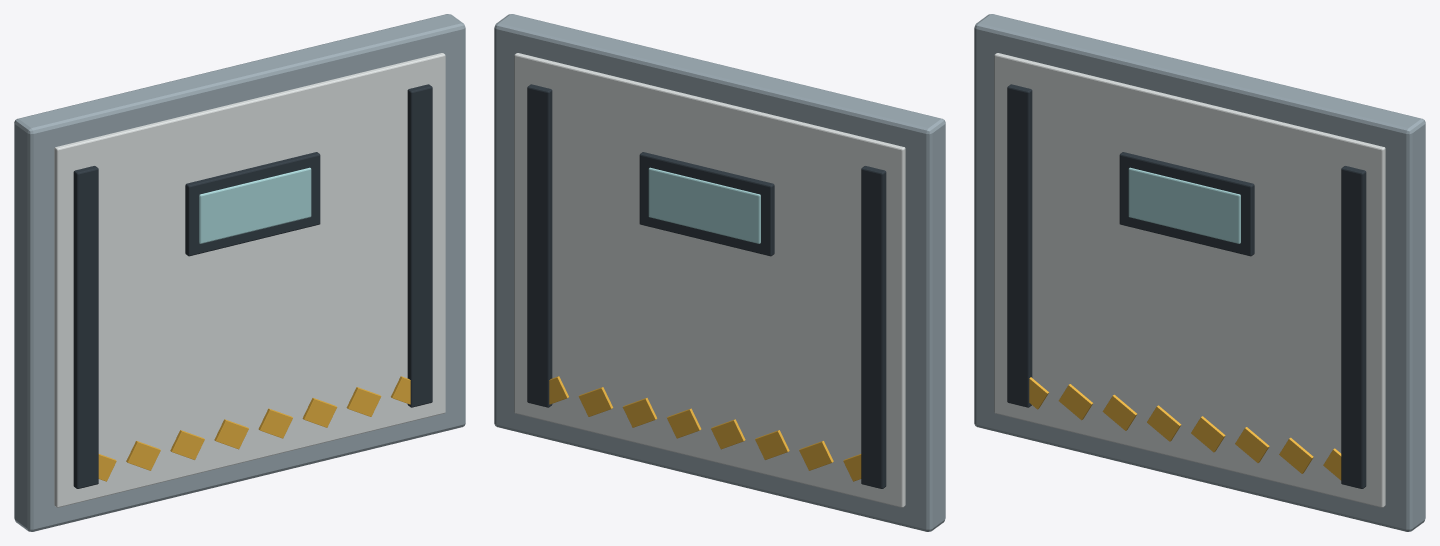
Rendered from safety-interlock.glb.
3 views of the same model, side by side, from view 1: azimuth 30°, elevation 25°; view 2: azimuth 150°, elevation 25°; view 3: azimuth 330°, elevation 25° (orthographic).
Visible parts, largest first — view 1: Inset, Door slab, Lock rail, Lock rail.001, Pane, Window frame, Warning stripe.002, Warning stripe.004, Warning stripe.005, Warning stripe.003, Warning stripe.006, Warning stripe.001; view 2: Inset.001, Door slab, Lock rail.002, Lock rail.003, Pane.001, Window frame.001, Warning stripe.010, Warning stripe.012, Warning stripe.013, Warning stripe.011, Warning stripe.014, Warning stripe.009; view 3: Inset, Door slab, Lock rail.001, Lock rail, Pane, Window frame, Warning stripe.004, Warning stripe.001, Warning stripe.006, Warning stripe.002, Warning stripe.003, Warning stripe.005.
Boxes of the visible parts, box(x1,y1,x2,y2) form: Inset: box(54, 53, 445, 507); Door slab: box(14, 14, 465, 531); Lock rail: box(73, 166, 98, 488); Lock rail.001: box(407, 84, 432, 407); Pane: box(199, 167, 311, 243); Window frame: box(185, 152, 320, 256); Warning stripe.002: box(170, 430, 204, 459); Warning stripe.004: box(258, 408, 292, 438); Warning stripe.005: box(302, 398, 337, 427); Warning stripe.003: box(214, 419, 248, 449); Warning stripe.006: box(346, 387, 381, 416); Warning stripe.001: box(126, 441, 160, 470); Inset.001: box(514, 53, 905, 507); Door slab: box(494, 14, 945, 531); Lock rail.002: box(861, 166, 886, 488); Lock rail.003: box(527, 84, 552, 407); Pane.001: box(648, 167, 760, 243); Window frame.001: box(639, 152, 774, 256); Warning stripe.010: box(755, 430, 789, 459); Warning stripe.012: box(667, 408, 701, 438); Warning stripe.013: box(622, 398, 657, 427); Warning stripe.011: box(711, 419, 745, 449); Warning stripe.014: box(578, 387, 613, 416); Warning stripe.009: box(799, 441, 833, 470); Inset: box(994, 53, 1385, 507); Door slab: box(974, 14, 1425, 531); Lock rail.001: box(1341, 166, 1366, 488); Lock rail: box(1007, 84, 1032, 407); Pane: box(1128, 167, 1240, 243); Window frame: box(1119, 152, 1254, 256); Warning stripe.004: box(1191, 416, 1225, 452); Warning stripe.001: box(1058, 384, 1093, 420); Warning stripe.006: box(1279, 437, 1313, 473); Warning stripe.002: box(1102, 394, 1137, 430); Warning stripe.003: box(1147, 405, 1181, 441); Warning stripe.005: box(1235, 427, 1269, 462).
Size of the model in its own units: 2.78 by 2.45 by 0.3524.
